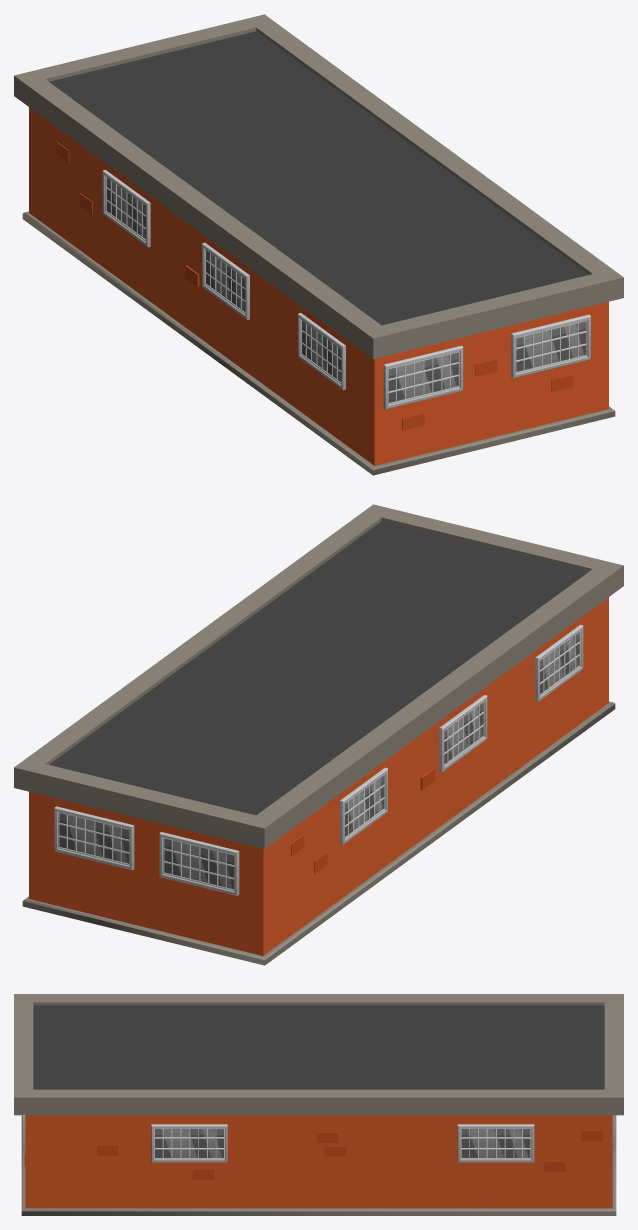
Rendered from Building_22_3_B.fbx.
The picture shows the model from 3 angles, top to bottom: view 1: azimuth 30°, elevation 25°; view 2: azimuth 150°, elevation 25°; view 3: azimuth 270°, elevation 25°; orthographic projection. The views are drawn at different scales.
Visible parts, largest first — view 1: Building_22_3_B; view 2: Building_22_3_B; view 3: Building_22_3_B.
Part boxes in pixels (x1,y1,x2,y2): Building_22_3_B: (14,14,623,475); Building_22_3_B: (14,504,623,965); Building_22_3_B: (14,994,623,1215).
Size of the model in its own units: 1247 by 672 by 3099.
